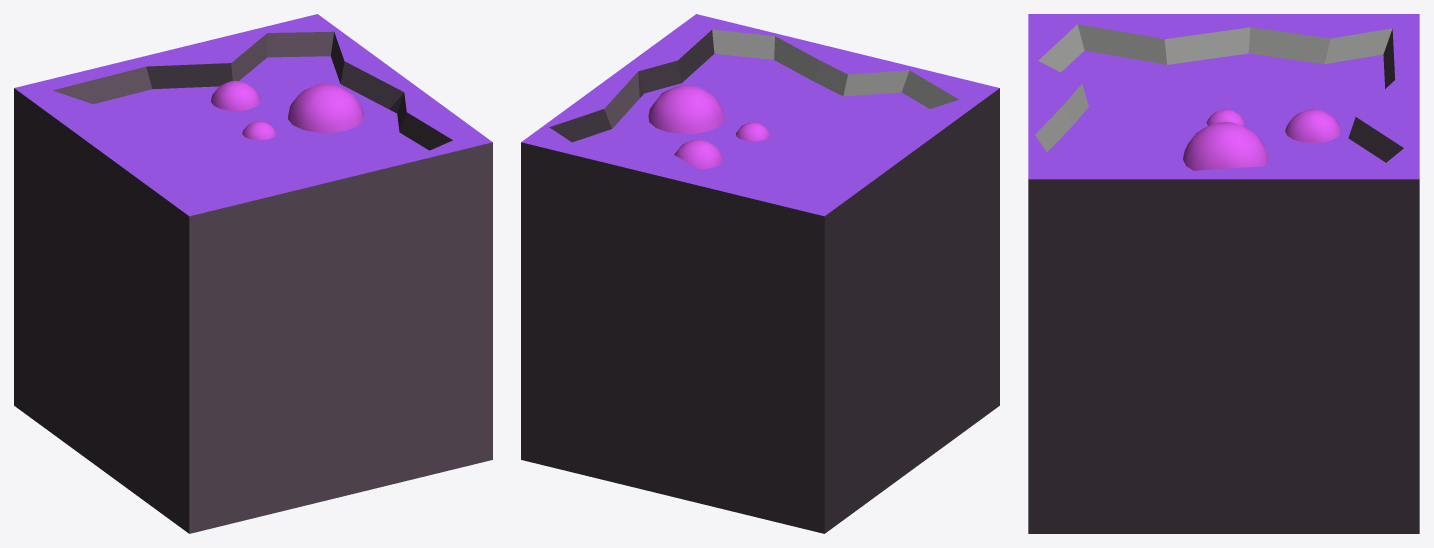
The model's file is tile_obstacle_toxic_pit_full.FBX.
3 views of the same model, side by side, from view 1: azimuth 30°, elevation 25°; view 2: azimuth 150°, elevation 25°; view 3: azimuth 270°, elevation 25° (orthographic). The views are drawn at different scales.
Visible parts, largest first — view 1: tile_obstacle_toxic_pit_full; view 2: tile_obstacle_toxic_pit_full; view 3: tile_obstacle_toxic_pit_full.
Part boxes in pixels (x1,y1,x2,y2): tile_obstacle_toxic_pit_full: (14, 14, 492, 533); tile_obstacle_toxic_pit_full: (521, 14, 999, 533); tile_obstacle_toxic_pit_full: (1028, 14, 1419, 533).
Bounding box in the file's own units: 39.37 × 40.53 × 39.38.
